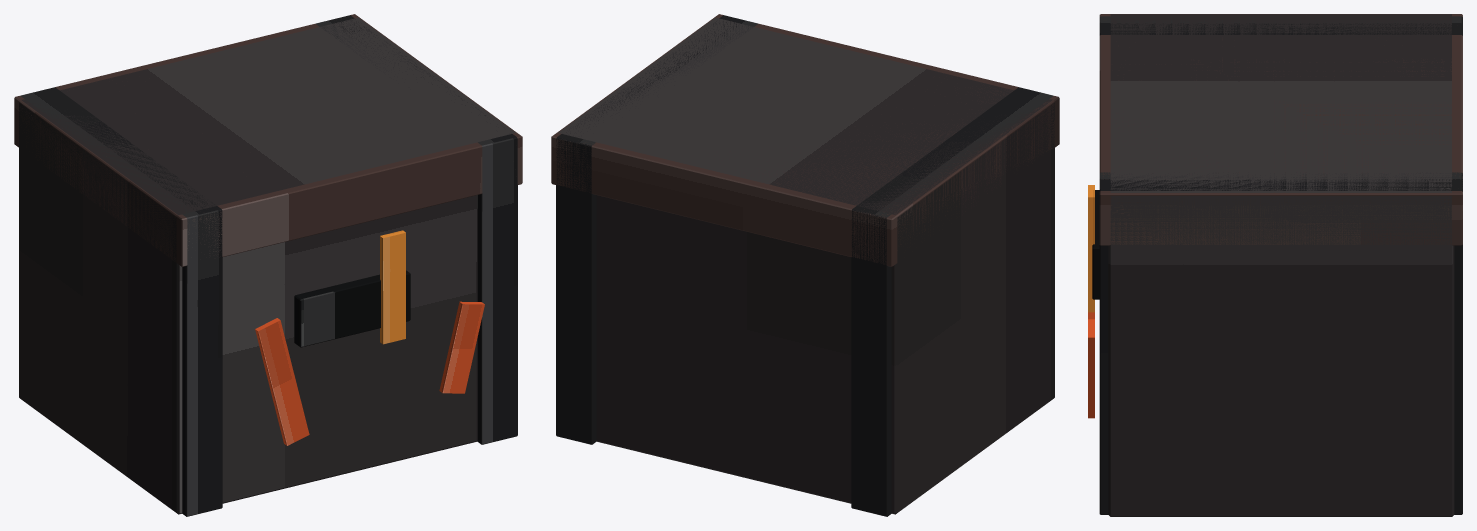
File: charred_supply_crate.glb
The picture shows the model from 3 angles, left to right: view 1: azimuth 30°, elevation 25°; view 2: azimuth 150°, elevation 25°; view 3: azimuth 270°, elevation 25°; orthographic projection. The views are drawn at different scales.
Parts seen in each view (by area): view 1: CharredCrate, CrateTopBand, CrateBand_1, CrateBand_2, CrateHandle, CrateMagmaCrack_1, CrateMagmaCrack_2, CrateMagmaCrack_3; view 2: CharredCrate, CrateTopBand, CrateBand_1, CrateBand_2; view 3: CharredCrate, CrateTopBand, CrateBand_2, CrateBand_1, CrateMagmaCrack_2, CrateHandle, CrateMagmaCrack_3.
Boxes of the visible parts, x1,y1,x2,y2 form: CharredCrate: (19,17,515,514); CrateTopBand: (14,14,522,266); CrateBand_1: (20,87,222,516); CrateBand_2: (315,15,517,444); CrateHandle: (294,270,410,347); CrateMagmaCrack_1: (255,318,309,445); CrateMagmaCrack_2: (380,230,405,344); CrateMagmaCrack_3: (439,301,484,393); CharredCrate: (558,17,1054,514); CrateTopBand: (551,14,1059,266); CrateBand_1: (851,87,1053,516); CrateBand_2: (556,15,758,444); CharredCrate: (1108,14,1454,516); CrateTopBand: (1099,14,1462,245); CrateBand_2: (1099,172,1462,514); CrateBand_1: (1099,16,1462,35); CrateMagmaCrack_2: (1088,185,1094,312); CrateHandle: (1092,190,1099,299); CrateMagmaCrack_3: (1088,319,1094,418).
Size of the model in its own units: 0.74 by 0.62 by 0.65.
Materials: 1 (1 with a texture image).
